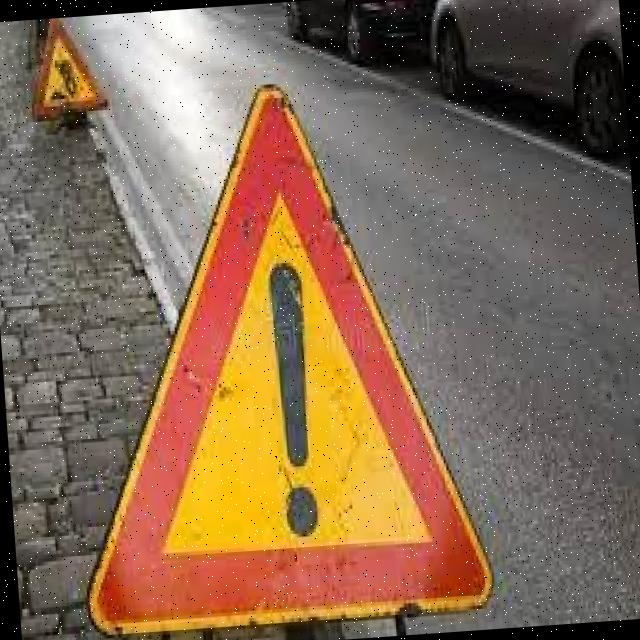warning: (54, 58, 501, 640)
